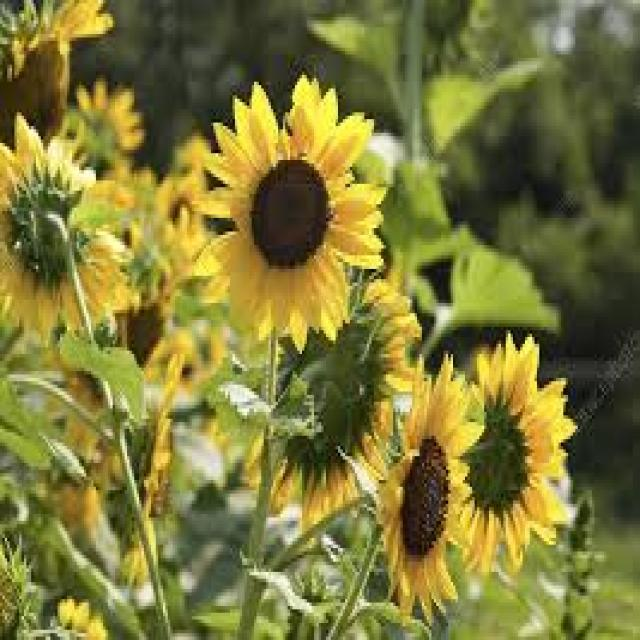sunflower: (207, 279, 438, 540), (187, 72, 393, 358), (370, 347, 493, 630), (452, 324, 581, 577), (118, 347, 190, 603), (113, 261, 172, 389), (49, 410, 133, 498), (160, 134, 214, 270), (59, 340, 122, 434), (46, 460, 110, 543), (54, 595, 123, 640), (171, 336, 206, 415), (115, 205, 142, 268)
